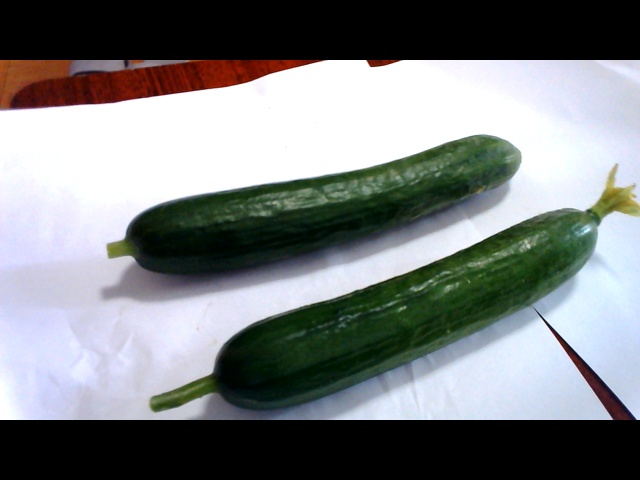cucumber: (169, 209, 613, 411), (105, 122, 523, 266)
